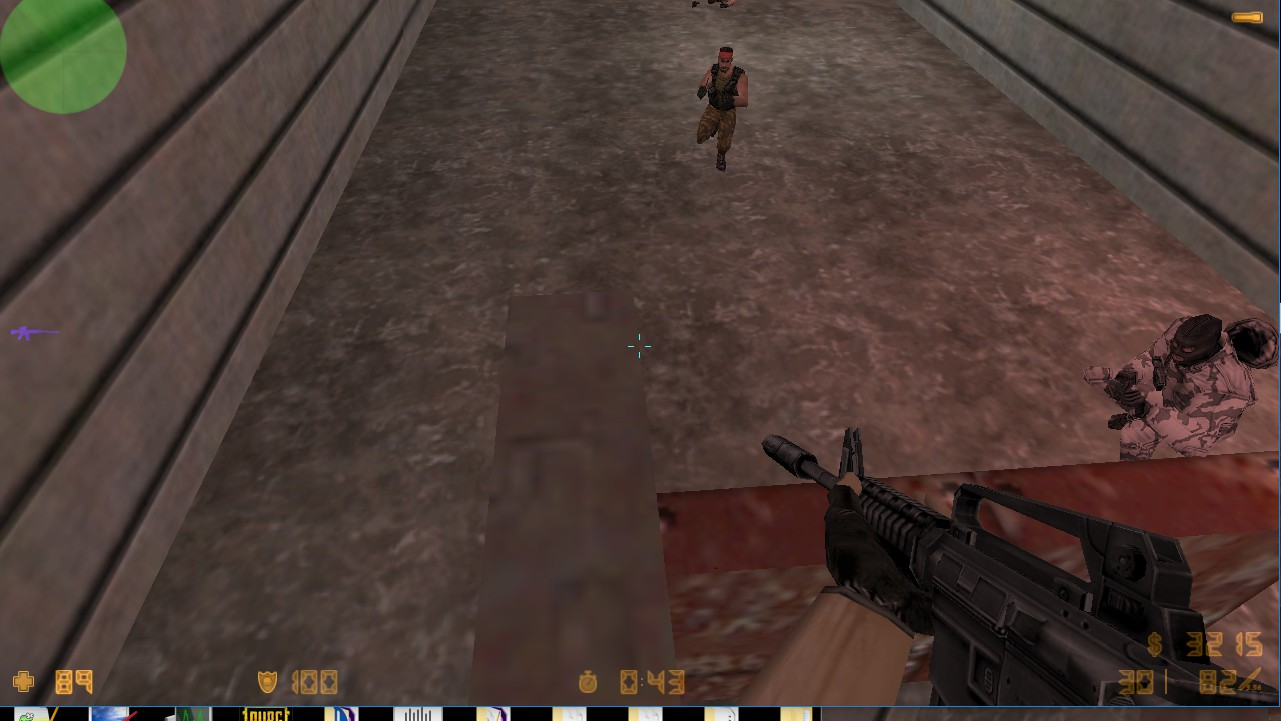person: (685, 43, 769, 177)
